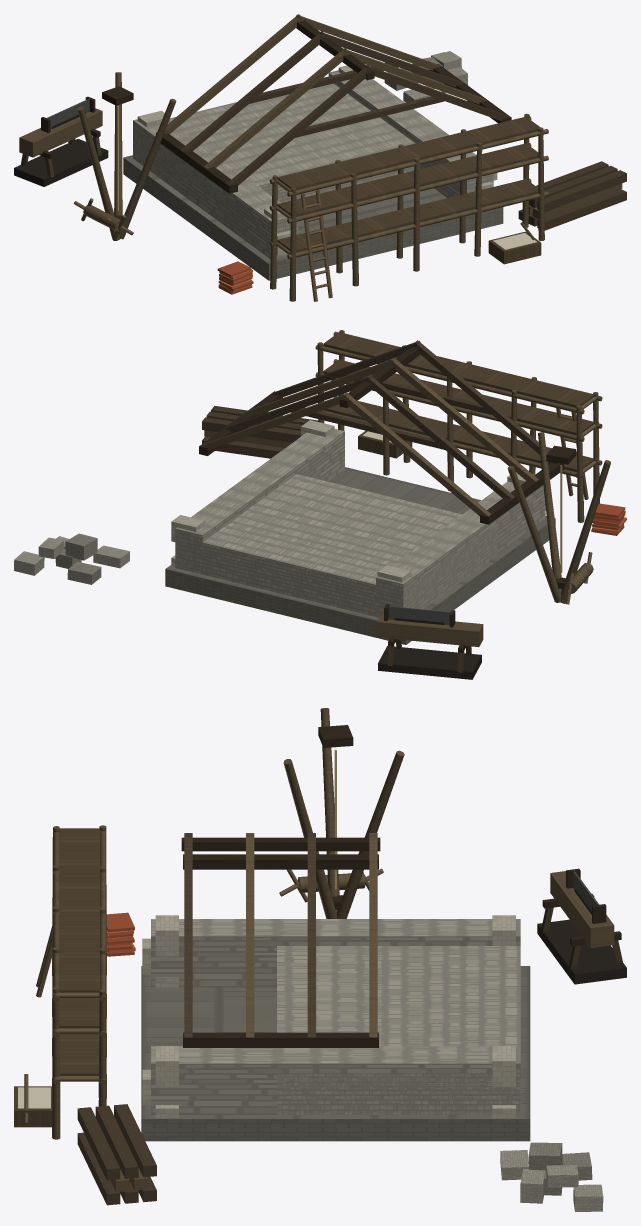
File: rat-1-construction.glb
3 views of the same model, one above another, from view 1: azimuth 30°, elevation 25°; view 2: azimuth 150°, elevation 25°; view 3: azimuth 270°, elevation 25° (orthographic). The views are drawn at different scales.
Size of the model in its own units: 26.88 by 9.31 by 22.39.
Materials: 26 (19 with a texture image).
